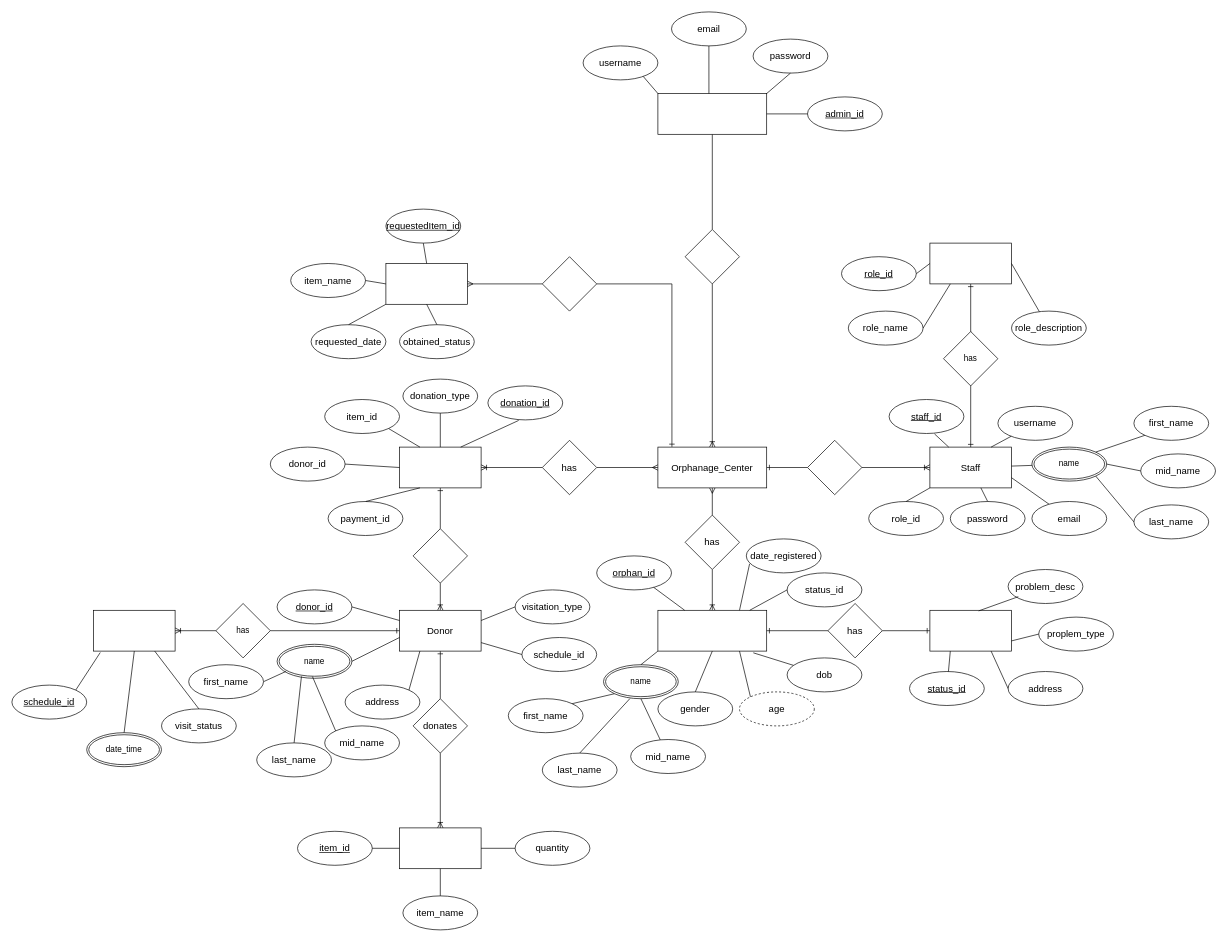
The diagram is 1227 pixels wide and 942 high, and some of its shapes have lost their labels. The shapes that lost their labels are listed below. From the top down, each one's centre as x and y in pixels, then its label:
At point (712, 113): "Admin".
At point (712, 256): "Manages".
At point (970, 263): "role".
At point (426, 283): "Requested_Items".
At point (569, 283): "requests for".
At point (440, 467): "Donation".
At point (834, 467): "is managed by".
At point (440, 555): "is made by".
At point (134, 630): "schedule".
At point (712, 630): "Orphan".
At point (970, 630): "Orphan_Status".
At point (440, 848): "Items".
